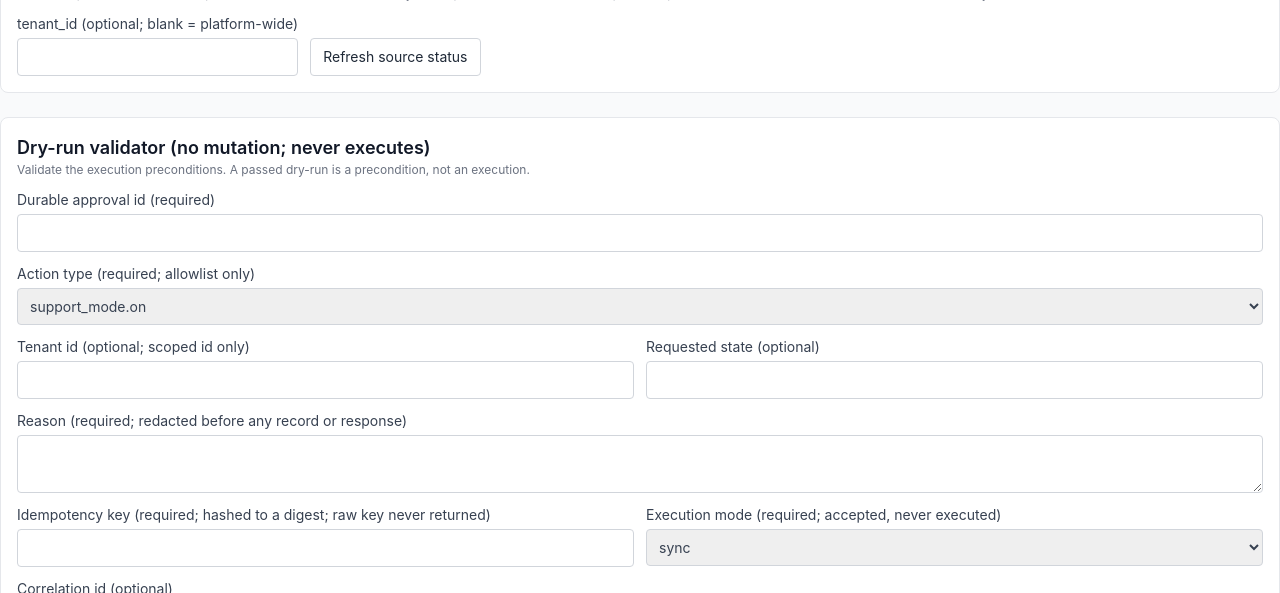
PlatformControlledExecutionConsolePage › P22-P03: a passed dry-run enables the record request section
(page scrolled)
Type "appr-1" into the field with test id "p22-approval-input" at (640, 233), box 17,214 -> 1263,252
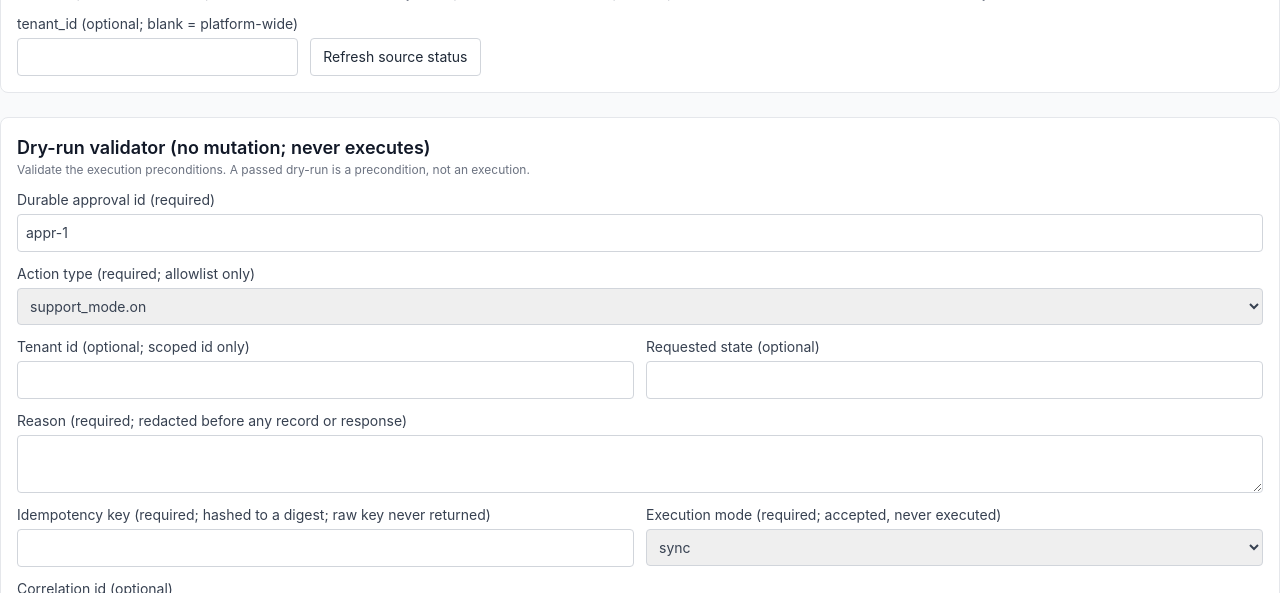
Type "routine review" into the text box with test id "p22-reason-input" at (640, 464), box 17,435 -> 1263,493
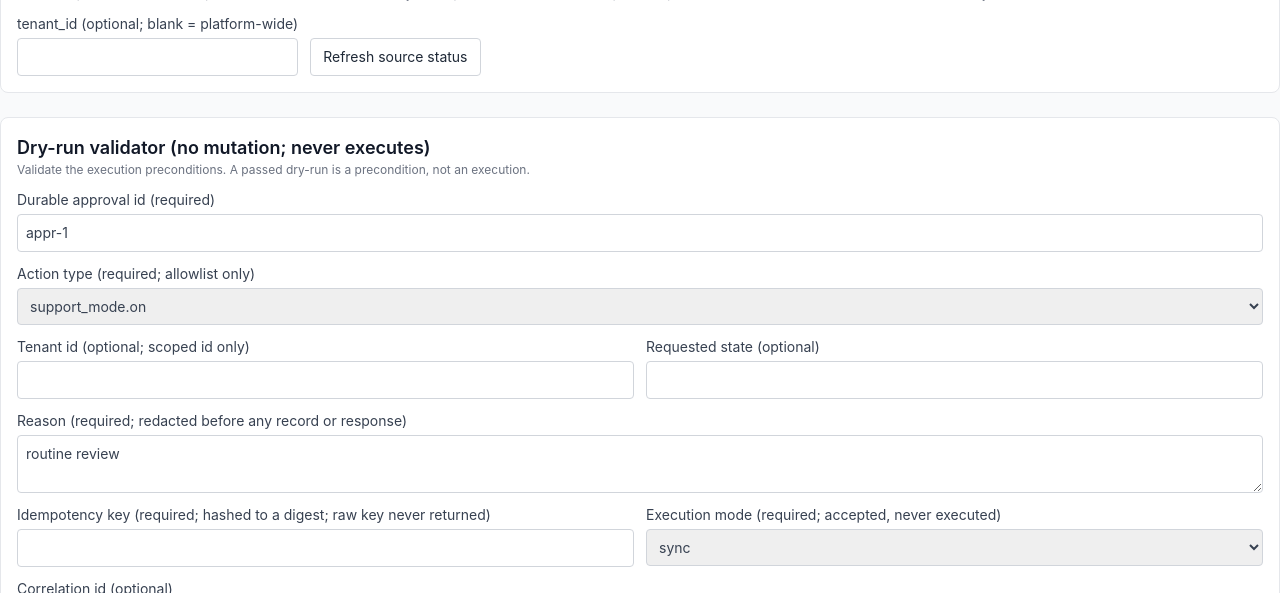
Type "RAW-SECRET-KEY-XYZ" into the field with test id "p22-idempotency-input" at (326, 548), box 17,529 -> 634,567
(page scrolled)
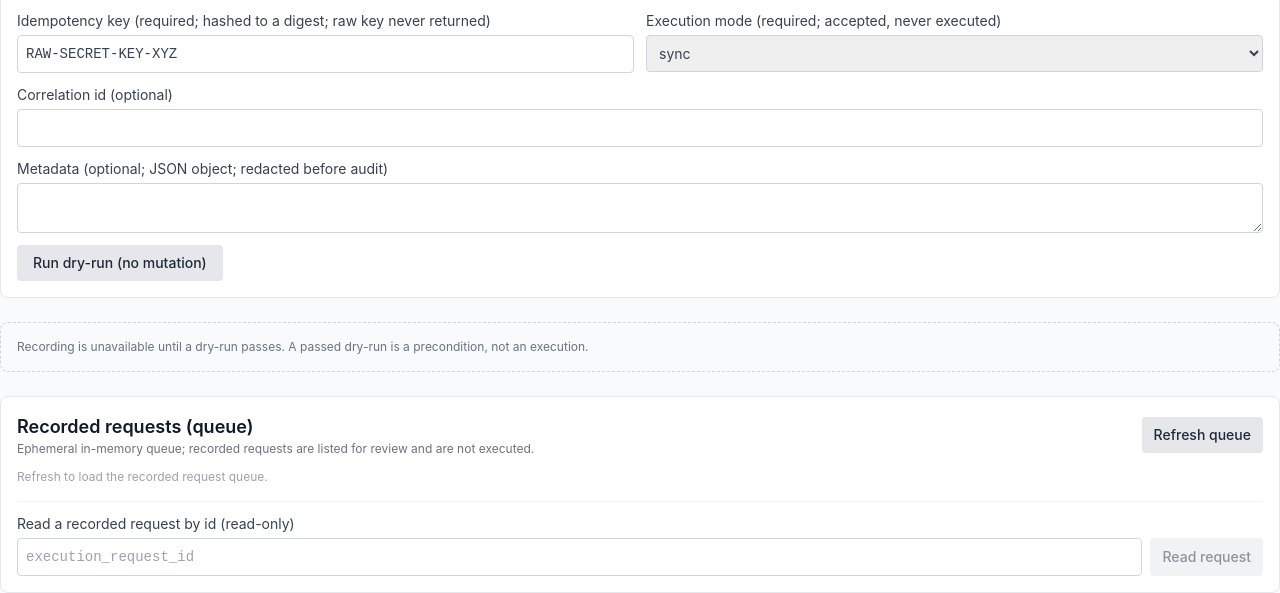
Click the button with test id "p22-dry-run-btn" at (120, 263), box 17,245 -> 223,281
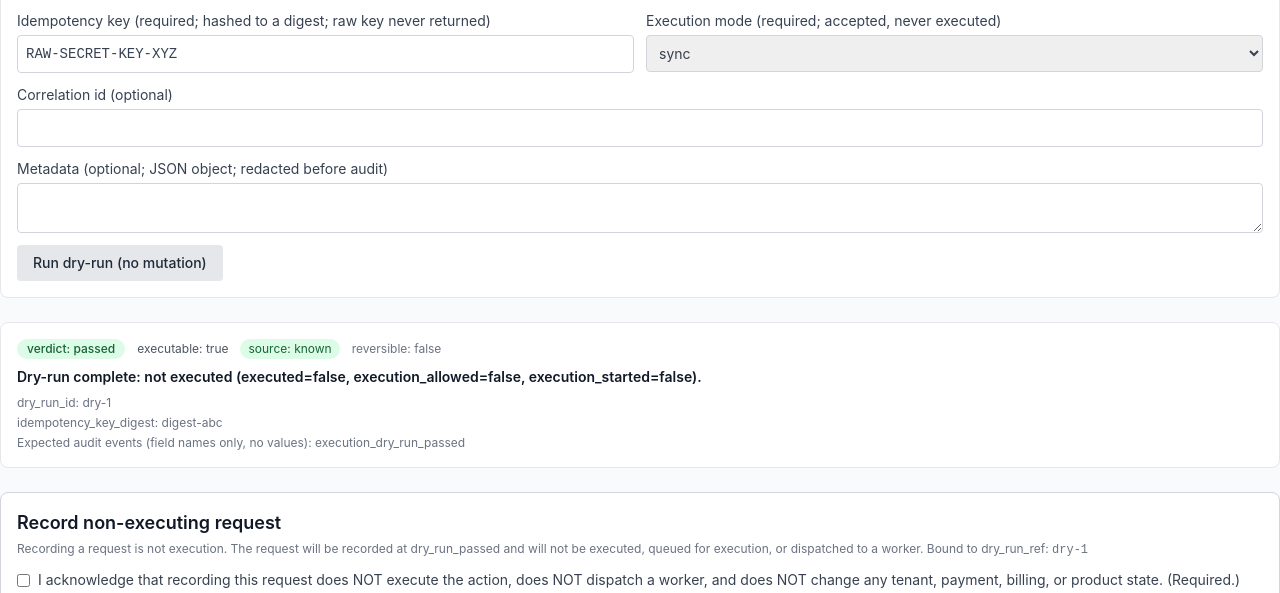
Click the checkbox with test id "p22-ack-input" at (24, 580), box 17,574 -> 30,587
(page scrolled)
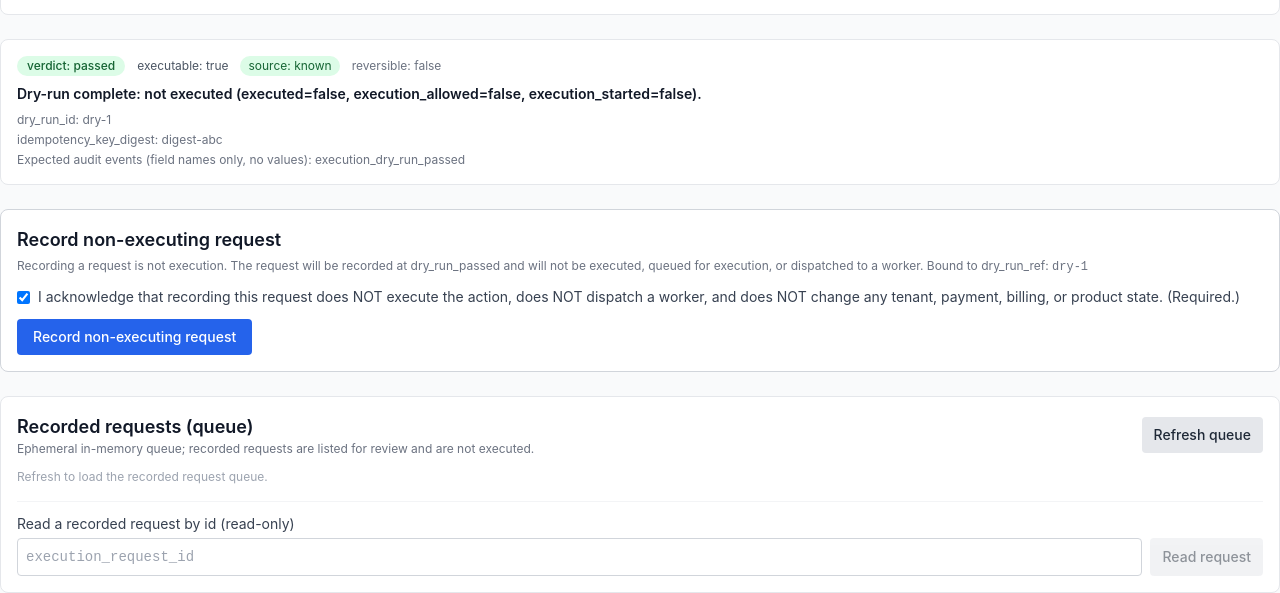
Check: the button with test id "p22-record-btn" is enabled, box 17,319 -> 252,355
